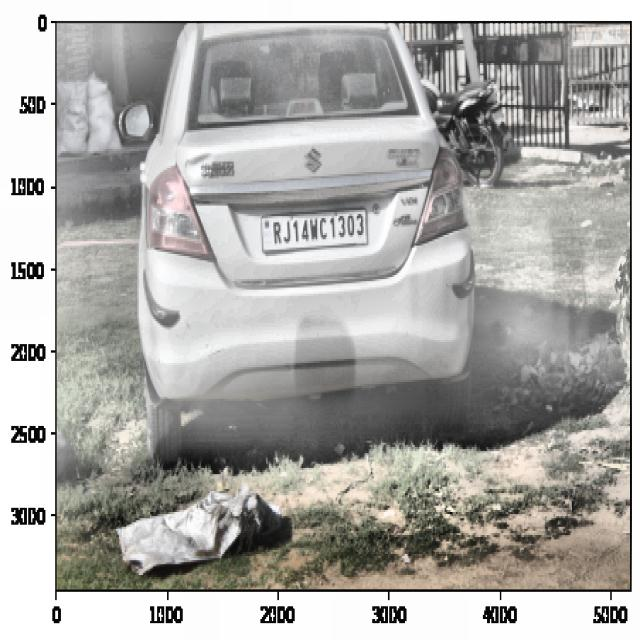license_plate: (268, 209, 368, 249)
